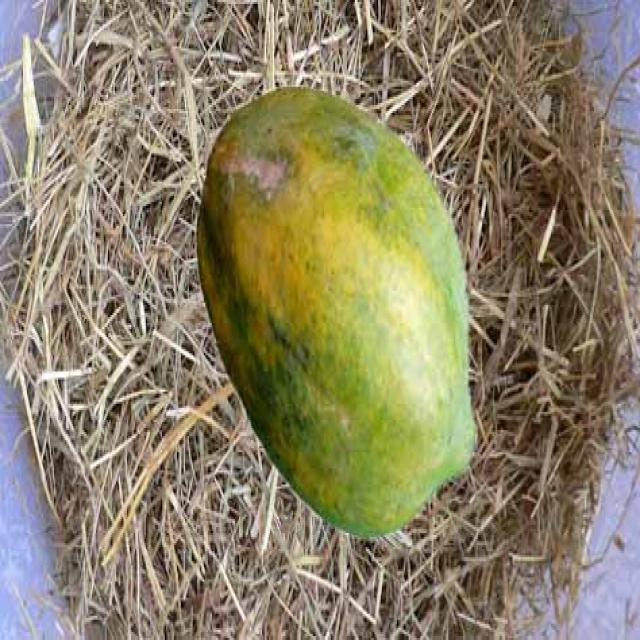Pepaya rippen: (183, 73, 484, 551)
